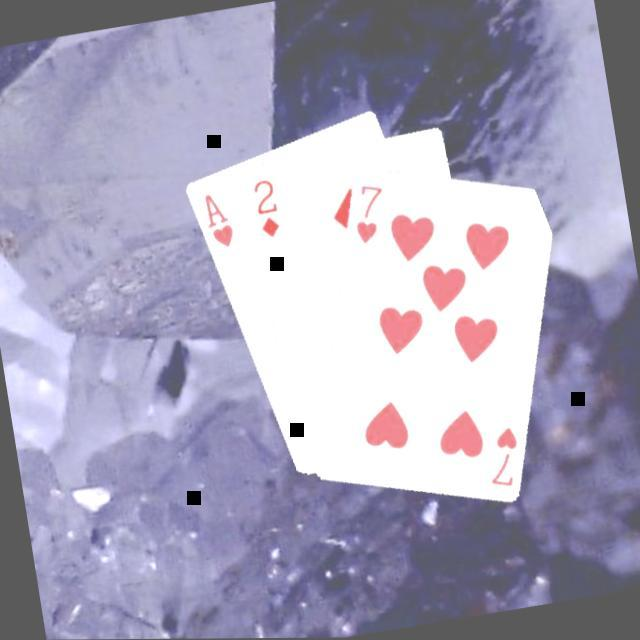2D: (247, 174, 284, 241)
7H: (477, 422, 526, 493), (343, 178, 393, 247)
AH: (198, 187, 237, 253)
